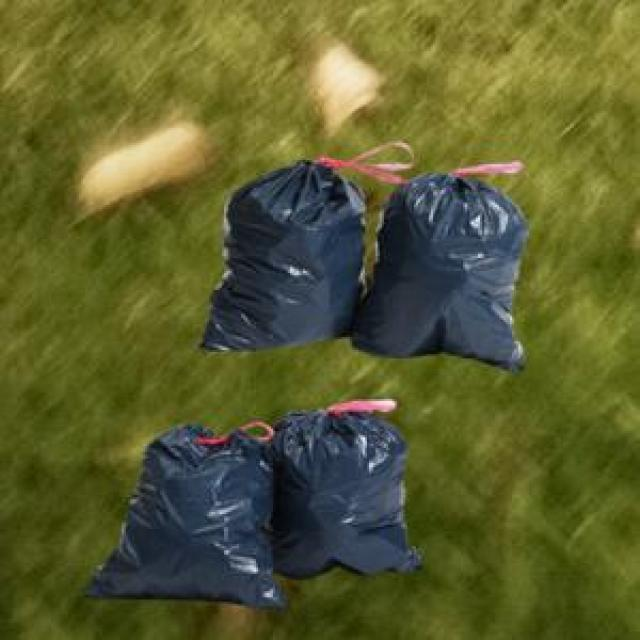Trashbag: (83, 425, 285, 605), (358, 168, 530, 372), (198, 167, 374, 357), (265, 404, 430, 580)
